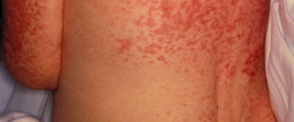SJS-TEN: (0, 0, 285, 122)
